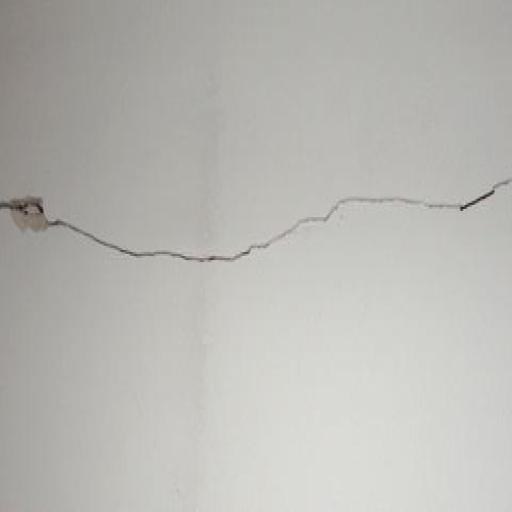spalling: (4, 173, 511, 273)
